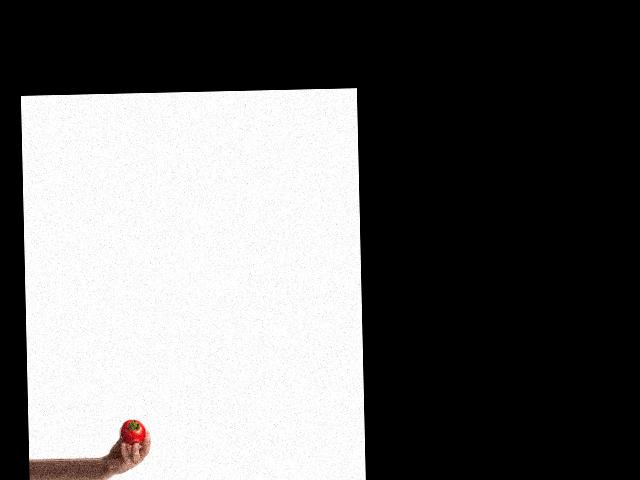tomato: (119, 419, 145, 444)
